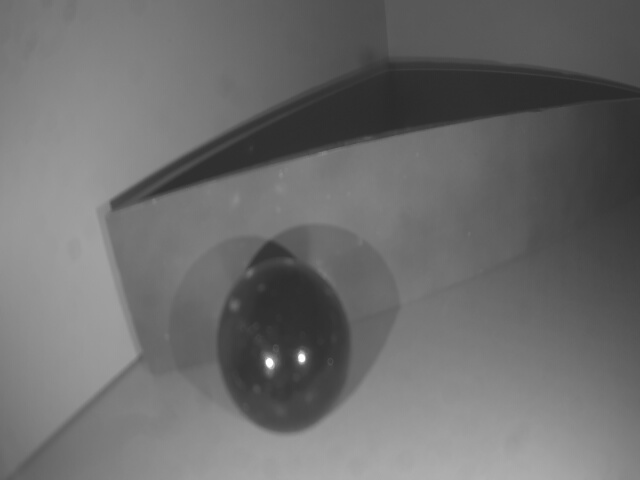Dead: (216, 264, 351, 434)
Green: (110, 95, 640, 380)
